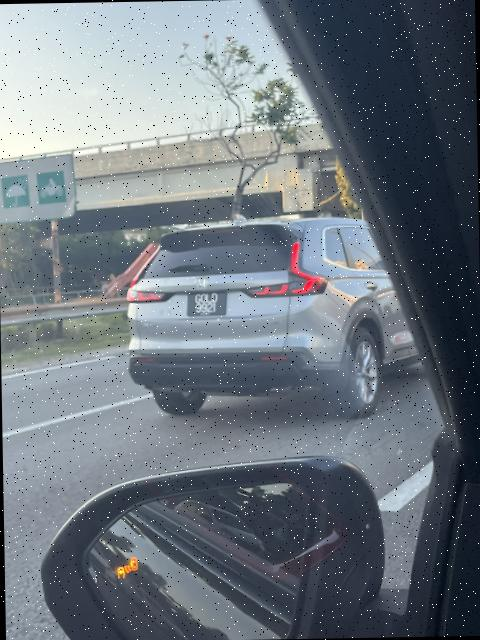License_Plate: (185, 291, 228, 318)
car: (110, 214, 434, 426)
